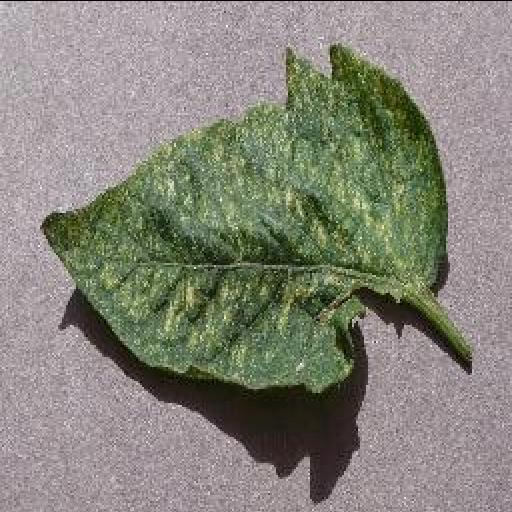disease_tomato: (36, 46, 452, 392)
